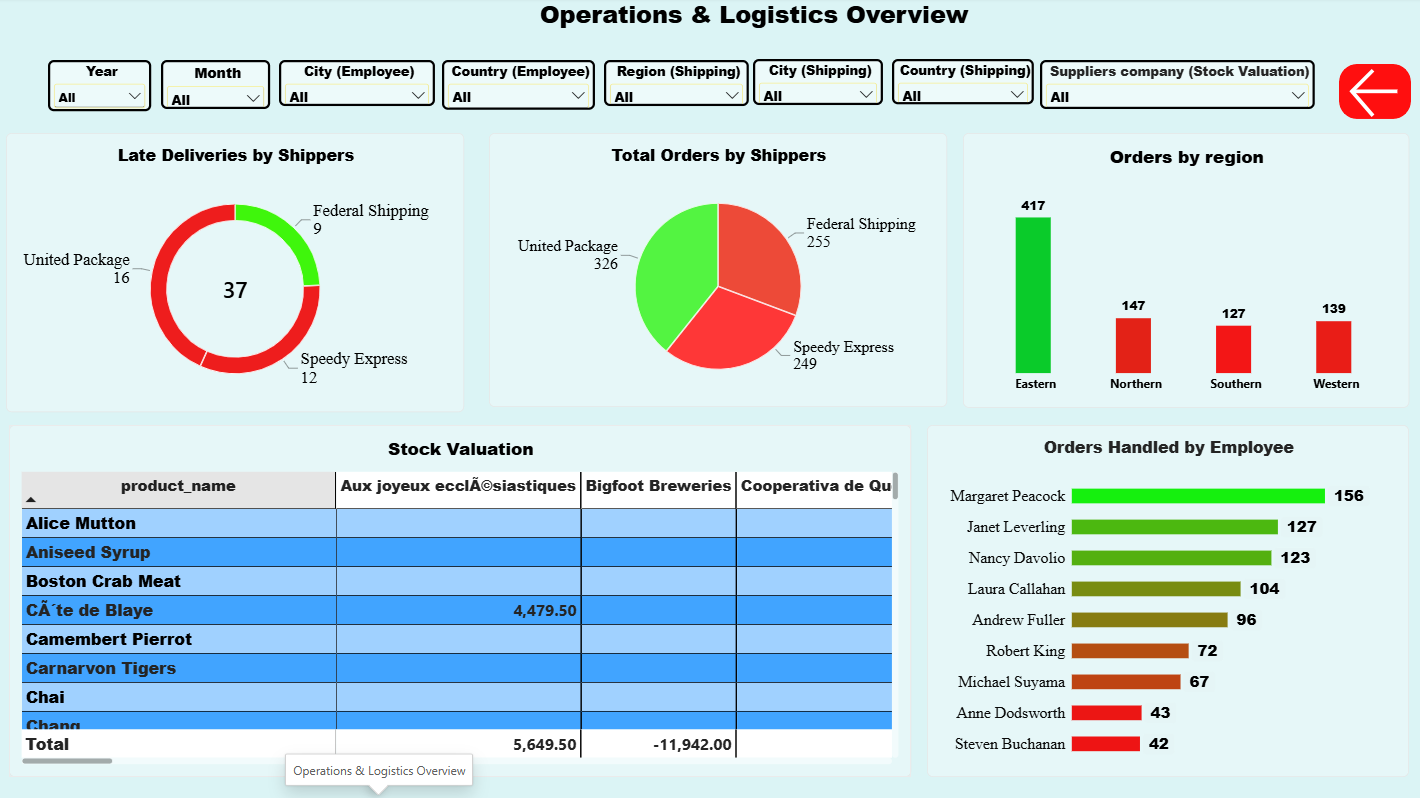

The dashboard page shown, as its layout file describes it:
{"tool":"powerbi","page":{"name":"Operations & Logistics Overview","canvas":[1920,1080],"ordinal":1},"visuals":[{"type":"shape","title":"slicer 1","box":[66,82.1,1847.6,88.9],"z":0,"group":"g1"},{"type":"group","id":"g1","title":"new group","box":[66,82.1,1847.6,88.9],"z":1000},{"type":"slicer","title":"Country (Shipping)","fields":{"Values":["public v_pbi_fact_sales.country"]},"box":[1206.7,83.4,191.2,60.6],"z":1000,"group":"g1"},{"type":"slicer","title":"Region (Shipping)","fields":{"Values":["public v_pbi_dim_ship_region.shipregion"]},"box":[818.9,84.7,195.3,61.9],"z":2000,"group":"g1"},{"type":"donutChart","title":"Late Deliveries by Shippers","fields":{"Series":["public v_pbi_dim_shippers.company_name"],"Y":["_measures (3).Late Deliveries Count"]},"box":[13.5,183.1,617.1,375.9],"z":2000},{"type":"slicer","title":"City (Shipping)","fields":{"Values":["public v_pbi_fact_sales.city"]},"box":[1019.5,83.4,175.1,61.9],"z":3000,"group":"g1"},{"type":"pieChart","title":"Total Orders by Shippers","fields":{"Series":["public v_pbi_dim_shippers.company_name"],"Y":["_measures (3).Total Orders"]},"box":[663.9,183.1,617.1,368.9],"z":3000},{"type":"slicer","title":"Country (Employee)","fields":{"Values":["public v_pbi_dim_employees.country"]},"box":[600.1,85.1,206,67.3],"z":4000,"group":"g1"},{"type":"pivotTable","title":"Stock Valuation","fields":{"Columns":["public v_pbi_dim_suppliers.company_name"],"Rows":["public v_pbi_dim_products.product_name"],"Values":["_measures (3).Available Stock Valuation"]},"box":[17.5,576.4,1214.7,474],"z":4000},{"type":"slicer","title":"City (Employee)","fields":{"Values":["public v_pbi_dim_employees.city"]},"box":[381.2,84.7,210.1,61.9],"z":5000,"group":"g1"},{"type":"clusteredBarChart","title":"Orders Handled by Employee ","fields":{"Category":["public v_pbi_dim_employees.Employee Full Name"],"Y":["_measures (3).Employee Orders Handled"]},"box":[1253.7,576.4,649.1,474],"z":5000},{"type":"slicer","title":"Suppliers company (Stock Valuation)","fields":{"Values":["public v_pbi_dim_suppliers.company_name"]},"box":[1405.9,84.8,370.3,66],"z":6000,"group":"g1"},{"type":"clusteredColumnChart","title":"Orders by region","fields":{"Category":["public v_pbi_dim_regions.region_description"],"Y":["_measures (3).Total Orders"]},"box":[1302.2,183.1,600.6,370.3],"z":6000},{"type":"shape","title":"Operations & Logistics Overview","box":[696.2,0,649.1,59.3],"z":7000},{"type":"slicer","title":"Month","fields":{"Values":["Date Table.Month Name"]},"box":[222.3,84.7,146.8,66],"z":7000,"group":"g1"},{"type":"slicer","title":"Year","fields":{"Values":["Date Table.Year"]},"box":[70.1,84.7,138.7,68.7],"z":8000,"group":"g1"},{"type":"actionButton","title":"close 1","box":[1808.6,90,97,74.1],"z":9000,"group":"g1"}]}

Visuals, with their boxes in screenshot pixels (x1, y1, x2, y2), scaled from the page's 1920x1080 canvas onto the 1420x798 screenshot:
"slicer 1" shape: x1=49, y1=61, x2=1415, y2=126
"new group" group: x1=49, y1=61, x2=1415, y2=126
"Country (Shipping)" slicer: x1=892, y1=62, x2=1034, y2=106
"Region (Shipping)" slicer: x1=606, y1=63, x2=750, y2=108
"Late Deliveries by Shippers" donutChart: x1=10, y1=135, x2=466, y2=413
"City (Shipping)" slicer: x1=754, y1=62, x2=884, y2=107
"Total Orders by Shippers" pieChart: x1=491, y1=135, x2=947, y2=408
"Country (Employee)" slicer: x1=444, y1=63, x2=596, y2=113
"Stock Valuation" pivotTable: x1=13, y1=426, x2=911, y2=776
"City (Employee)" slicer: x1=282, y1=63, x2=437, y2=108
"Orders Handled by Employee " clusteredBarChart: x1=927, y1=426, x2=1407, y2=776
"Suppliers company (Stock Valuation)" slicer: x1=1040, y1=63, x2=1314, y2=111
"Orders by region" clusteredColumnChart: x1=963, y1=135, x2=1407, y2=409
"Operations & Logistics Overview" shape: x1=515, y1=0, x2=995, y2=44
"Month" slicer: x1=164, y1=63, x2=273, y2=111
"Year" slicer: x1=52, y1=63, x2=154, y2=113
"close 1" actionButton: x1=1338, y1=66, x2=1409, y2=121
